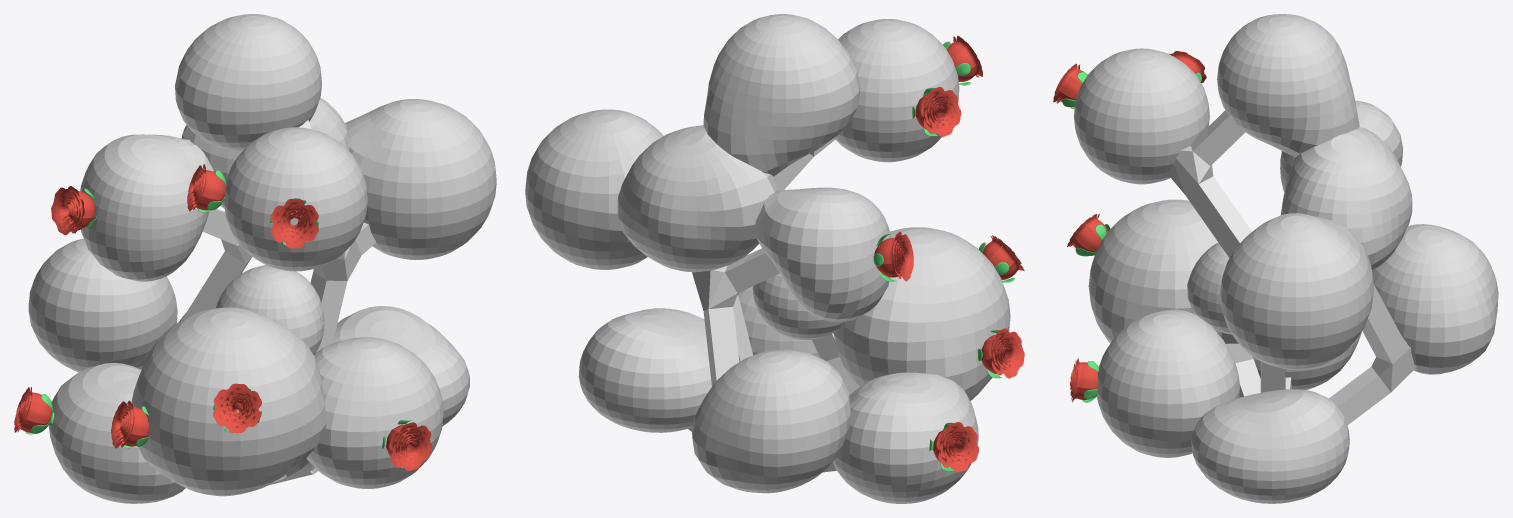
Rendered from roseBush.fbx.
3 views of the same model, side by side, from view 1: azimuth 30°, elevation 25°; view 2: azimuth 150°, elevation 25°; view 3: azimuth 270°, elevation 25° (orthographic). The views are drawn at different scales.
Visible parts, largest first — view 1: Sphere, Cube, Sphere.001, Sphere.003, Sphere.005, Sphere.007, Sphere.002, Sphere.006, Sphere.004; view 2: Sphere, Cube, Sphere.004, Sphere.006, Sphere.002, Sphere.007, Sphere.001, Sphere.003; view 3: Sphere, Cube, Sphere.001, Sphere.005, Sphere.003.
Part boxes in pixels (x1,y1,x2,y2): Sphere: [28, 14, 496, 503]; Cube: [179, 120, 376, 484]; Sphere.001: [213, 383, 262, 434]; Sphere.003: [270, 198, 318, 248]; Sphere.005: [382, 420, 432, 471]; Sphere.007: [51, 186, 96, 235]; Sphere.002: [111, 400, 150, 448]; Sphere.006: [187, 164, 226, 212]; Sphere.004: [14, 387, 54, 434]; Sphere: [525, 14, 1010, 503]; Cube: [688, 138, 858, 472]; Sphere.004: [929, 422, 979, 472]; Sphere.006: [912, 87, 961, 136]; Sphere.002: [978, 328, 1024, 378]; Sphere.007: [873, 231, 913, 281]; Sphere.001: [979, 235, 1024, 282]; Sphere.003: [943, 35, 982, 85]; Sphere: [1074, 14, 1498, 503]; Cube: [1167, 110, 1416, 425]; Sphere.001: [1067, 213, 1110, 256]; Sphere.005: [1070, 357, 1099, 402]; Sphere.003: [1053, 63, 1088, 108].
Size of the model in its own units: 101 by 96.9 by 90.44.
